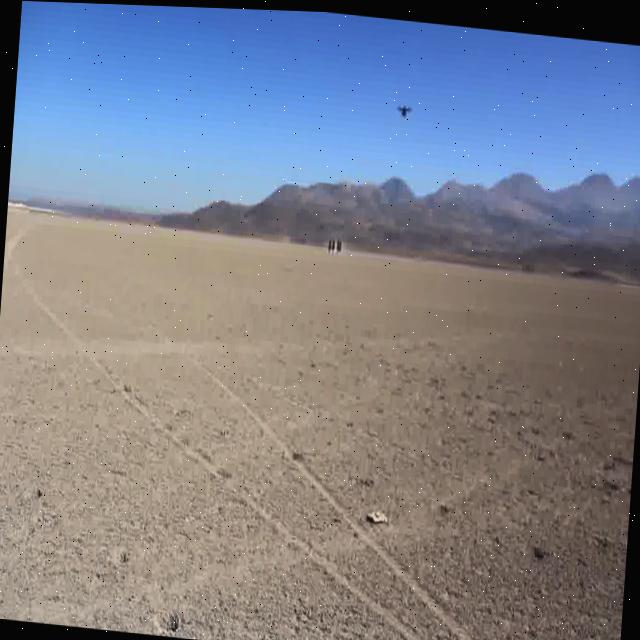drone: (392, 96, 414, 117)
